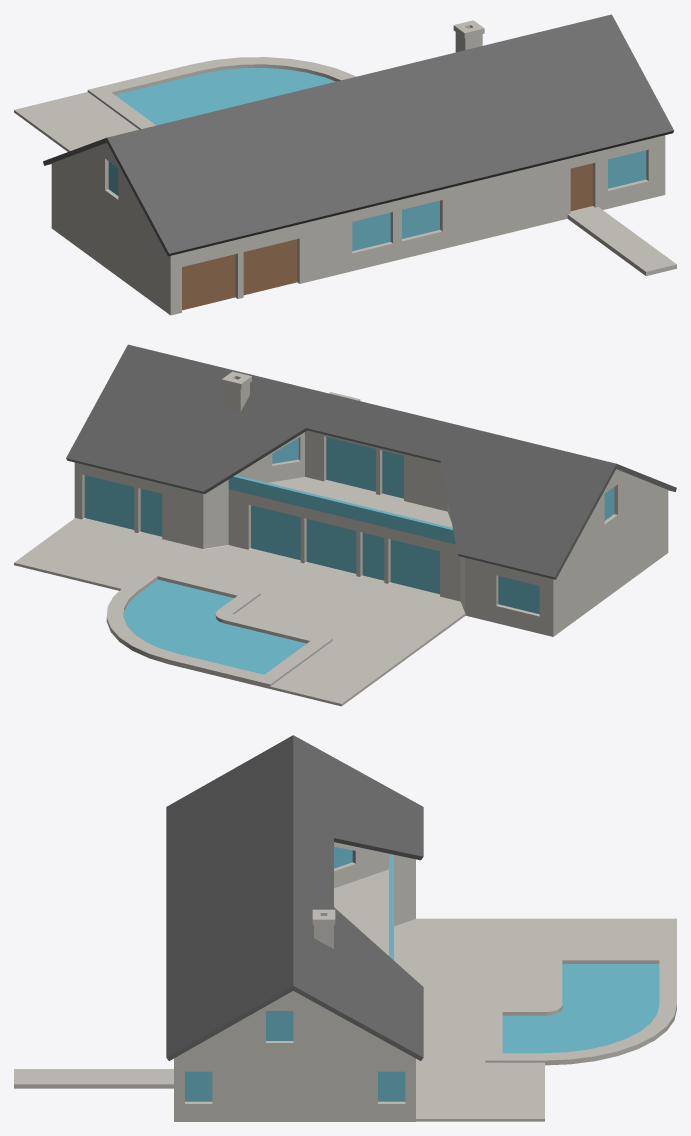
File: house_lux.gltf
The picture shows the model from 3 angles, top to bottom: view 1: azimuth 30°, elevation 25°; view 2: azimuth 150°, elevation 25°; view 3: azimuth 270°, elevation 25°; orthographic projection. The views are drawn at different scales.
Visible parts, largest first — view 1: house-luxurious_Cube.010, pool, doorway walkway, chimney.001; view 2: house-luxurious_Cube.010, pool, chimney.001; view 3: house-luxurious_Cube.010, pool, doorway walkway, chimney.001.
Part boxes in pixels (x1,y1,x2,y2): house-luxurious_Cube.010: [43, 14, 674, 315]; pool: [14, 57, 355, 151]; doorway walkway: [567, 206, 676, 275]; chimney.001: [453, 20, 484, 52]; house-luxurious_Cube.010: [66, 344, 676, 636]; pool: [14, 518, 465, 706]; chimney.001: [222, 371, 251, 411]; house-luxurious_Cube.010: [166, 735, 423, 1121]; pool: [394, 918, 676, 1121]; doorway walkway: [14, 1069, 173, 1088]; chimney.001: [312, 909, 335, 948].
Bounding box in the file's own units: 12.25 × 3.34 × 13.69.
Materials: 1 (1 with a texture image).
